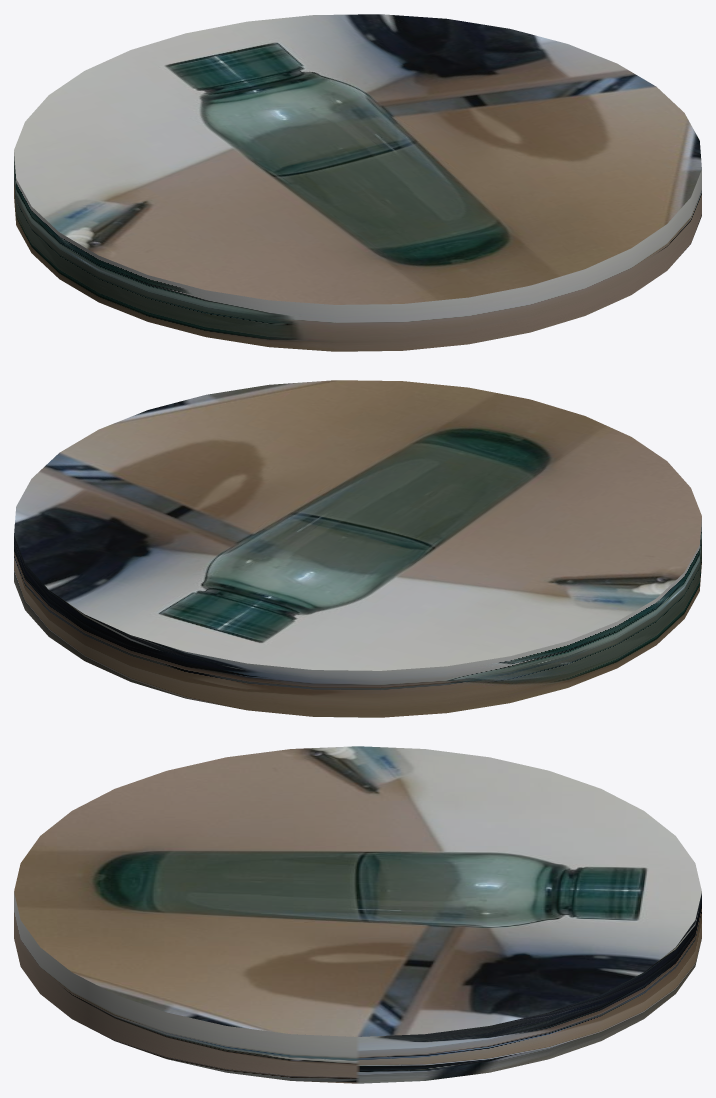
3 views of the same model, one above another, from view 1: azimuth 30°, elevation 25°; view 2: azimuth 150°, elevation 25°; view 3: azimuth 270°, elevation 25° (orthographic).
Parts seen in each view (by area): view 1: dishNode; view 2: dishNode; view 3: dishNode.
Boxes of the visible parts, box(x1,y1,x2,y2) form: dishNode: box(14, 14, 701, 351); dishNode: box(14, 380, 701, 717); dishNode: box(14, 746, 701, 1083).
Size of the model in its own units: 2 by 0.15 by 2.
1 material, 1 textured.
